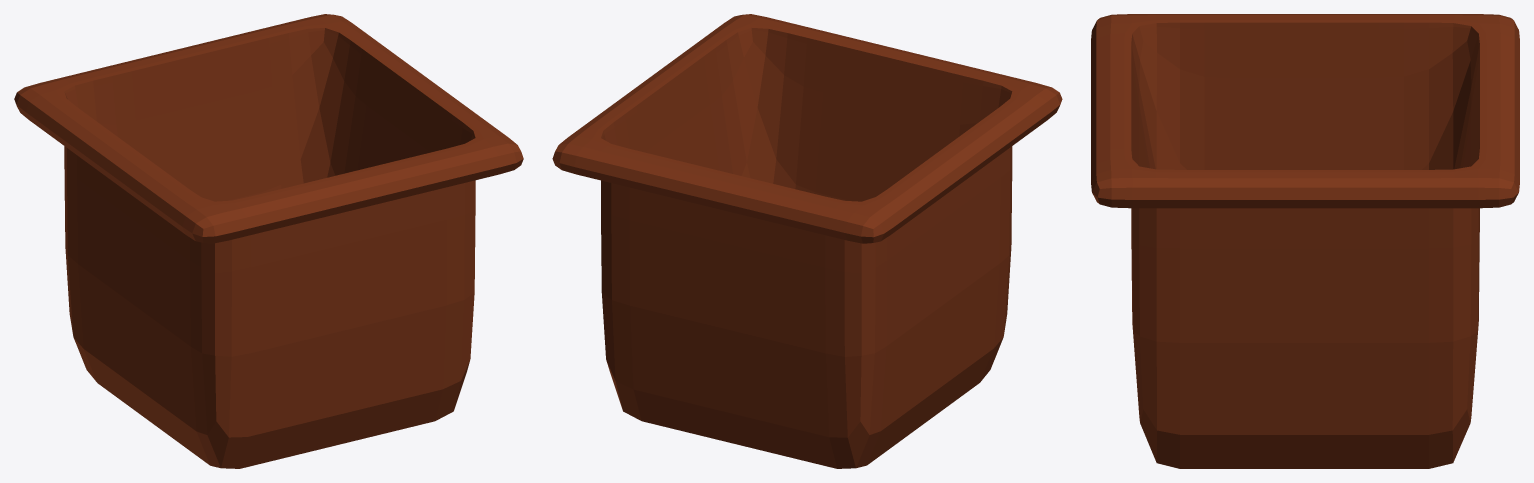
The model's file is pot.fbx.
3 views of the same model, side by side, from view 1: azimuth 30°, elevation 25°; view 2: azimuth 150°, elevation 25°; view 3: azimuth 270°, elevation 25° (orthographic). The views are drawn at different scales.
Visible parts, largest first — view 1: Pot; view 2: Pot; view 3: Pot.
Boxes of the visible parts, x1=… form: Pot: x1=14, y1=14, x2=523, y2=468; Pot: x1=552, y1=14, x2=1062, y2=468; Pot: x1=1091, y1=14, x2=1519, y2=468.
Bounding box in the file's own units: 305 × 253 × 311.
